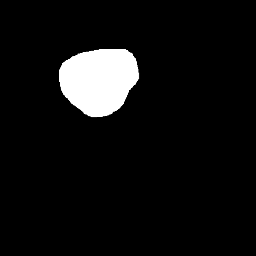mass: (66, 54, 141, 111)
